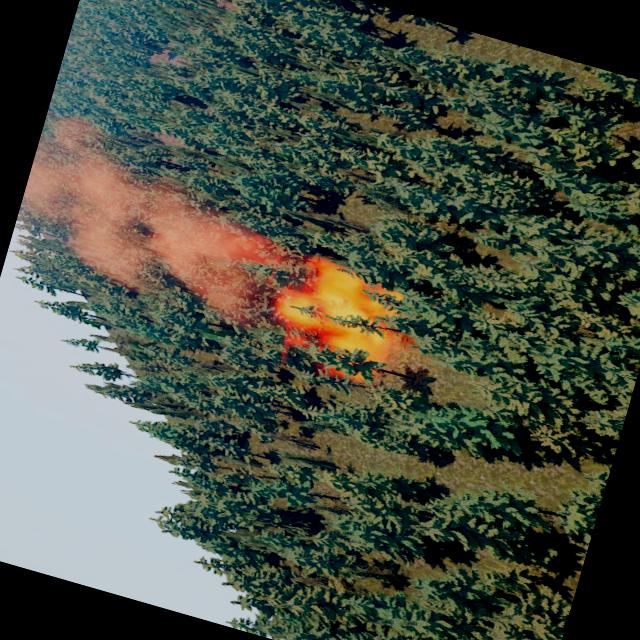fire: (256, 249, 402, 387)
smoke: (7, 106, 296, 325)
